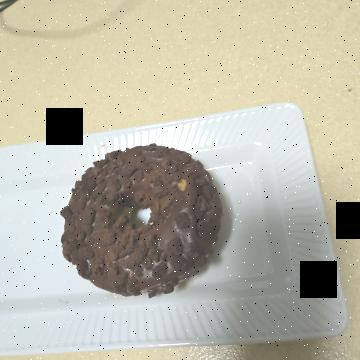doughnut: (129, 124, 299, 302)
